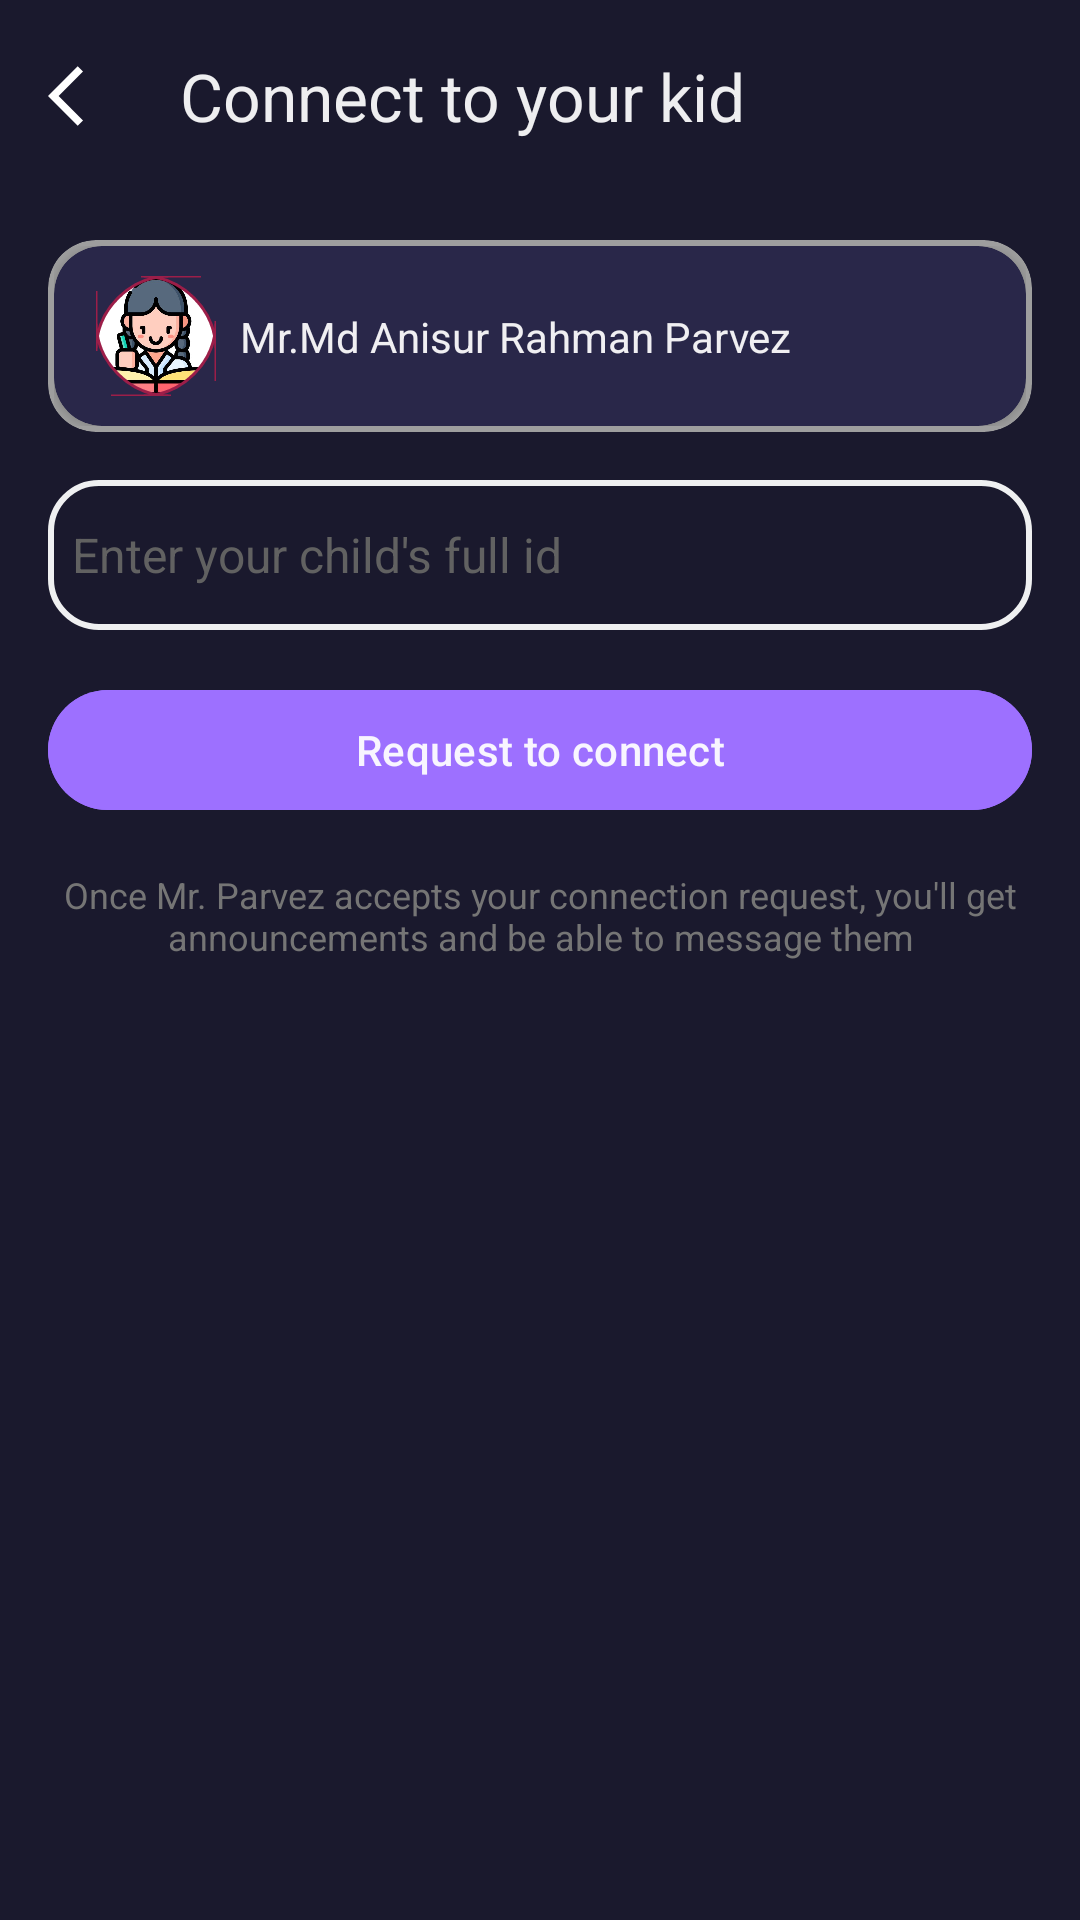

Screen size 1080px×1920px. Icon name, then its box in pixels as [x1=x1, y1=y1, x2=x2, y2=y2]:
student: [x1=96, y1=276, x2=216, y2=396]
